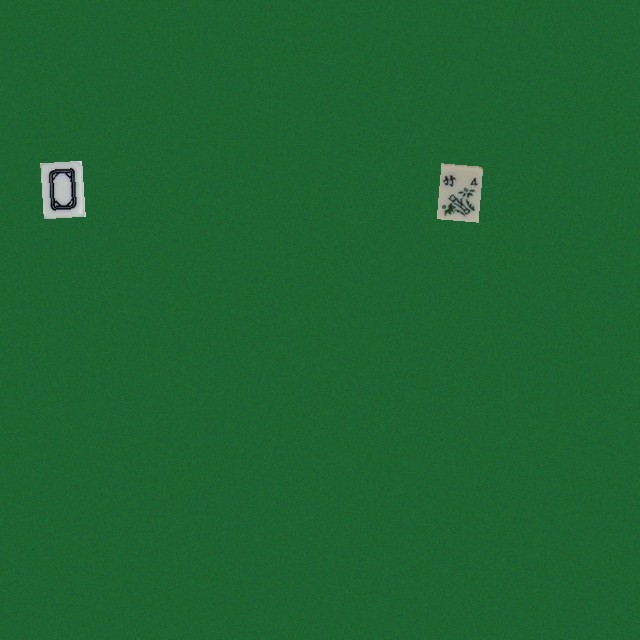tile: (40, 160, 82, 216), (436, 163, 478, 219)
